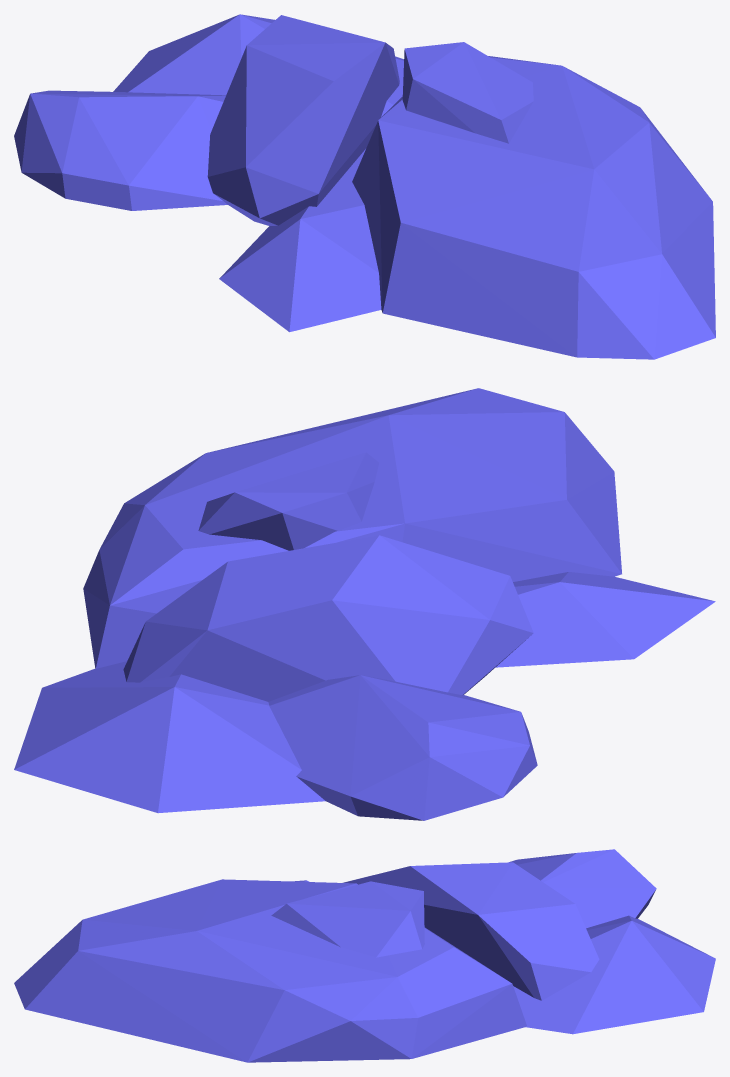
Rendered from Obstacle_13_Colllider_01.FBX.
3 renders of one model, top to bottom at view 1: azimuth 30°, elevation 25°; view 2: azimuth 150°, elevation 25°; view 3: azimuth 270°, elevation 25°, orthographic. The views are drawn at different scales.
Visible parts, largest first — view 1: COLLIDER1, COLLIDER3, COLLIDER5, COLLIDER4, COLLIDER6, COLLIDER2; view 2: COLLIDER1, COLLIDER3, COLLIDER2, COLLIDER5, COLLIDER4, COLLIDER6; view 3: COLLIDER1, COLLIDER3, COLLIDER2, COLLIDER6, COLLIDER5.
Boxes of the visible parts, x1,y1,x2,y2 form: COLLIDER1: (352, 56, 715, 359); COLLIDER3: (207, 15, 399, 225); COLLIDER5: (14, 90, 227, 210); COLLIDER4: (219, 149, 381, 332); COLLIDER6: (402, 42, 533, 143); COLLIDER2: (113, 14, 403, 116); COLLIDER1: (83, 388, 621, 668); COLLIDER3: (123, 535, 533, 701); COLLIDER2: (14, 661, 325, 813); COLLIDER5: (268, 675, 537, 820); COLLIDER4: (495, 572, 715, 667); COLLIDER6: (198, 452, 379, 550); COLLIDER1: (14, 879, 526, 1062); COLLIDER3: (343, 862, 599, 1000); COLLIDER2: (513, 915, 715, 1034); COLLIDER6: (271, 881, 424, 957); COLLIDER5: (509, 849, 656, 928).
Size of the model in its own units: 155 by 36.38 by 243.
